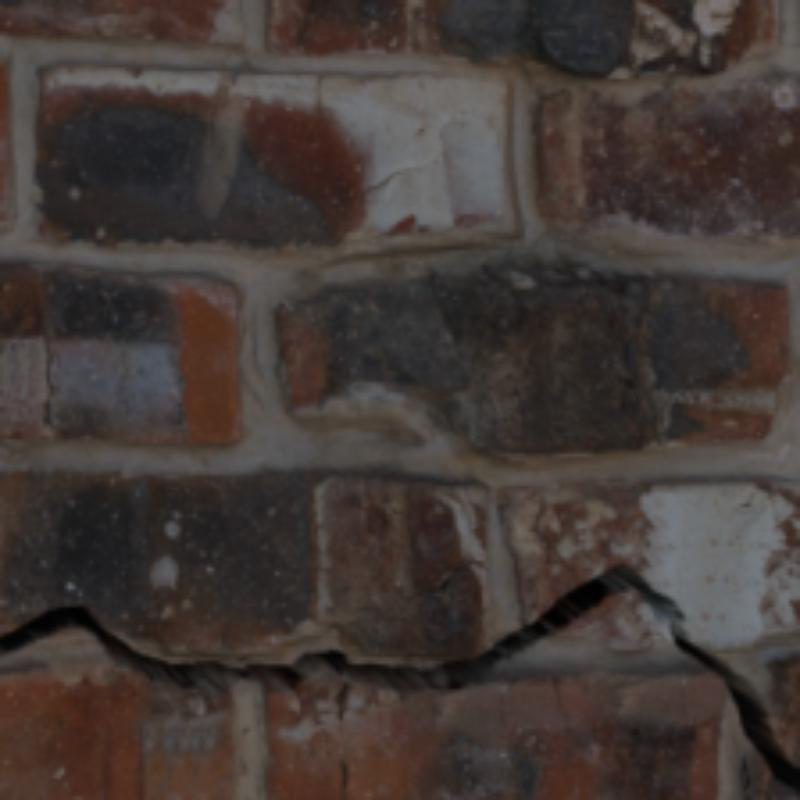crack: (0, 561, 796, 796)
